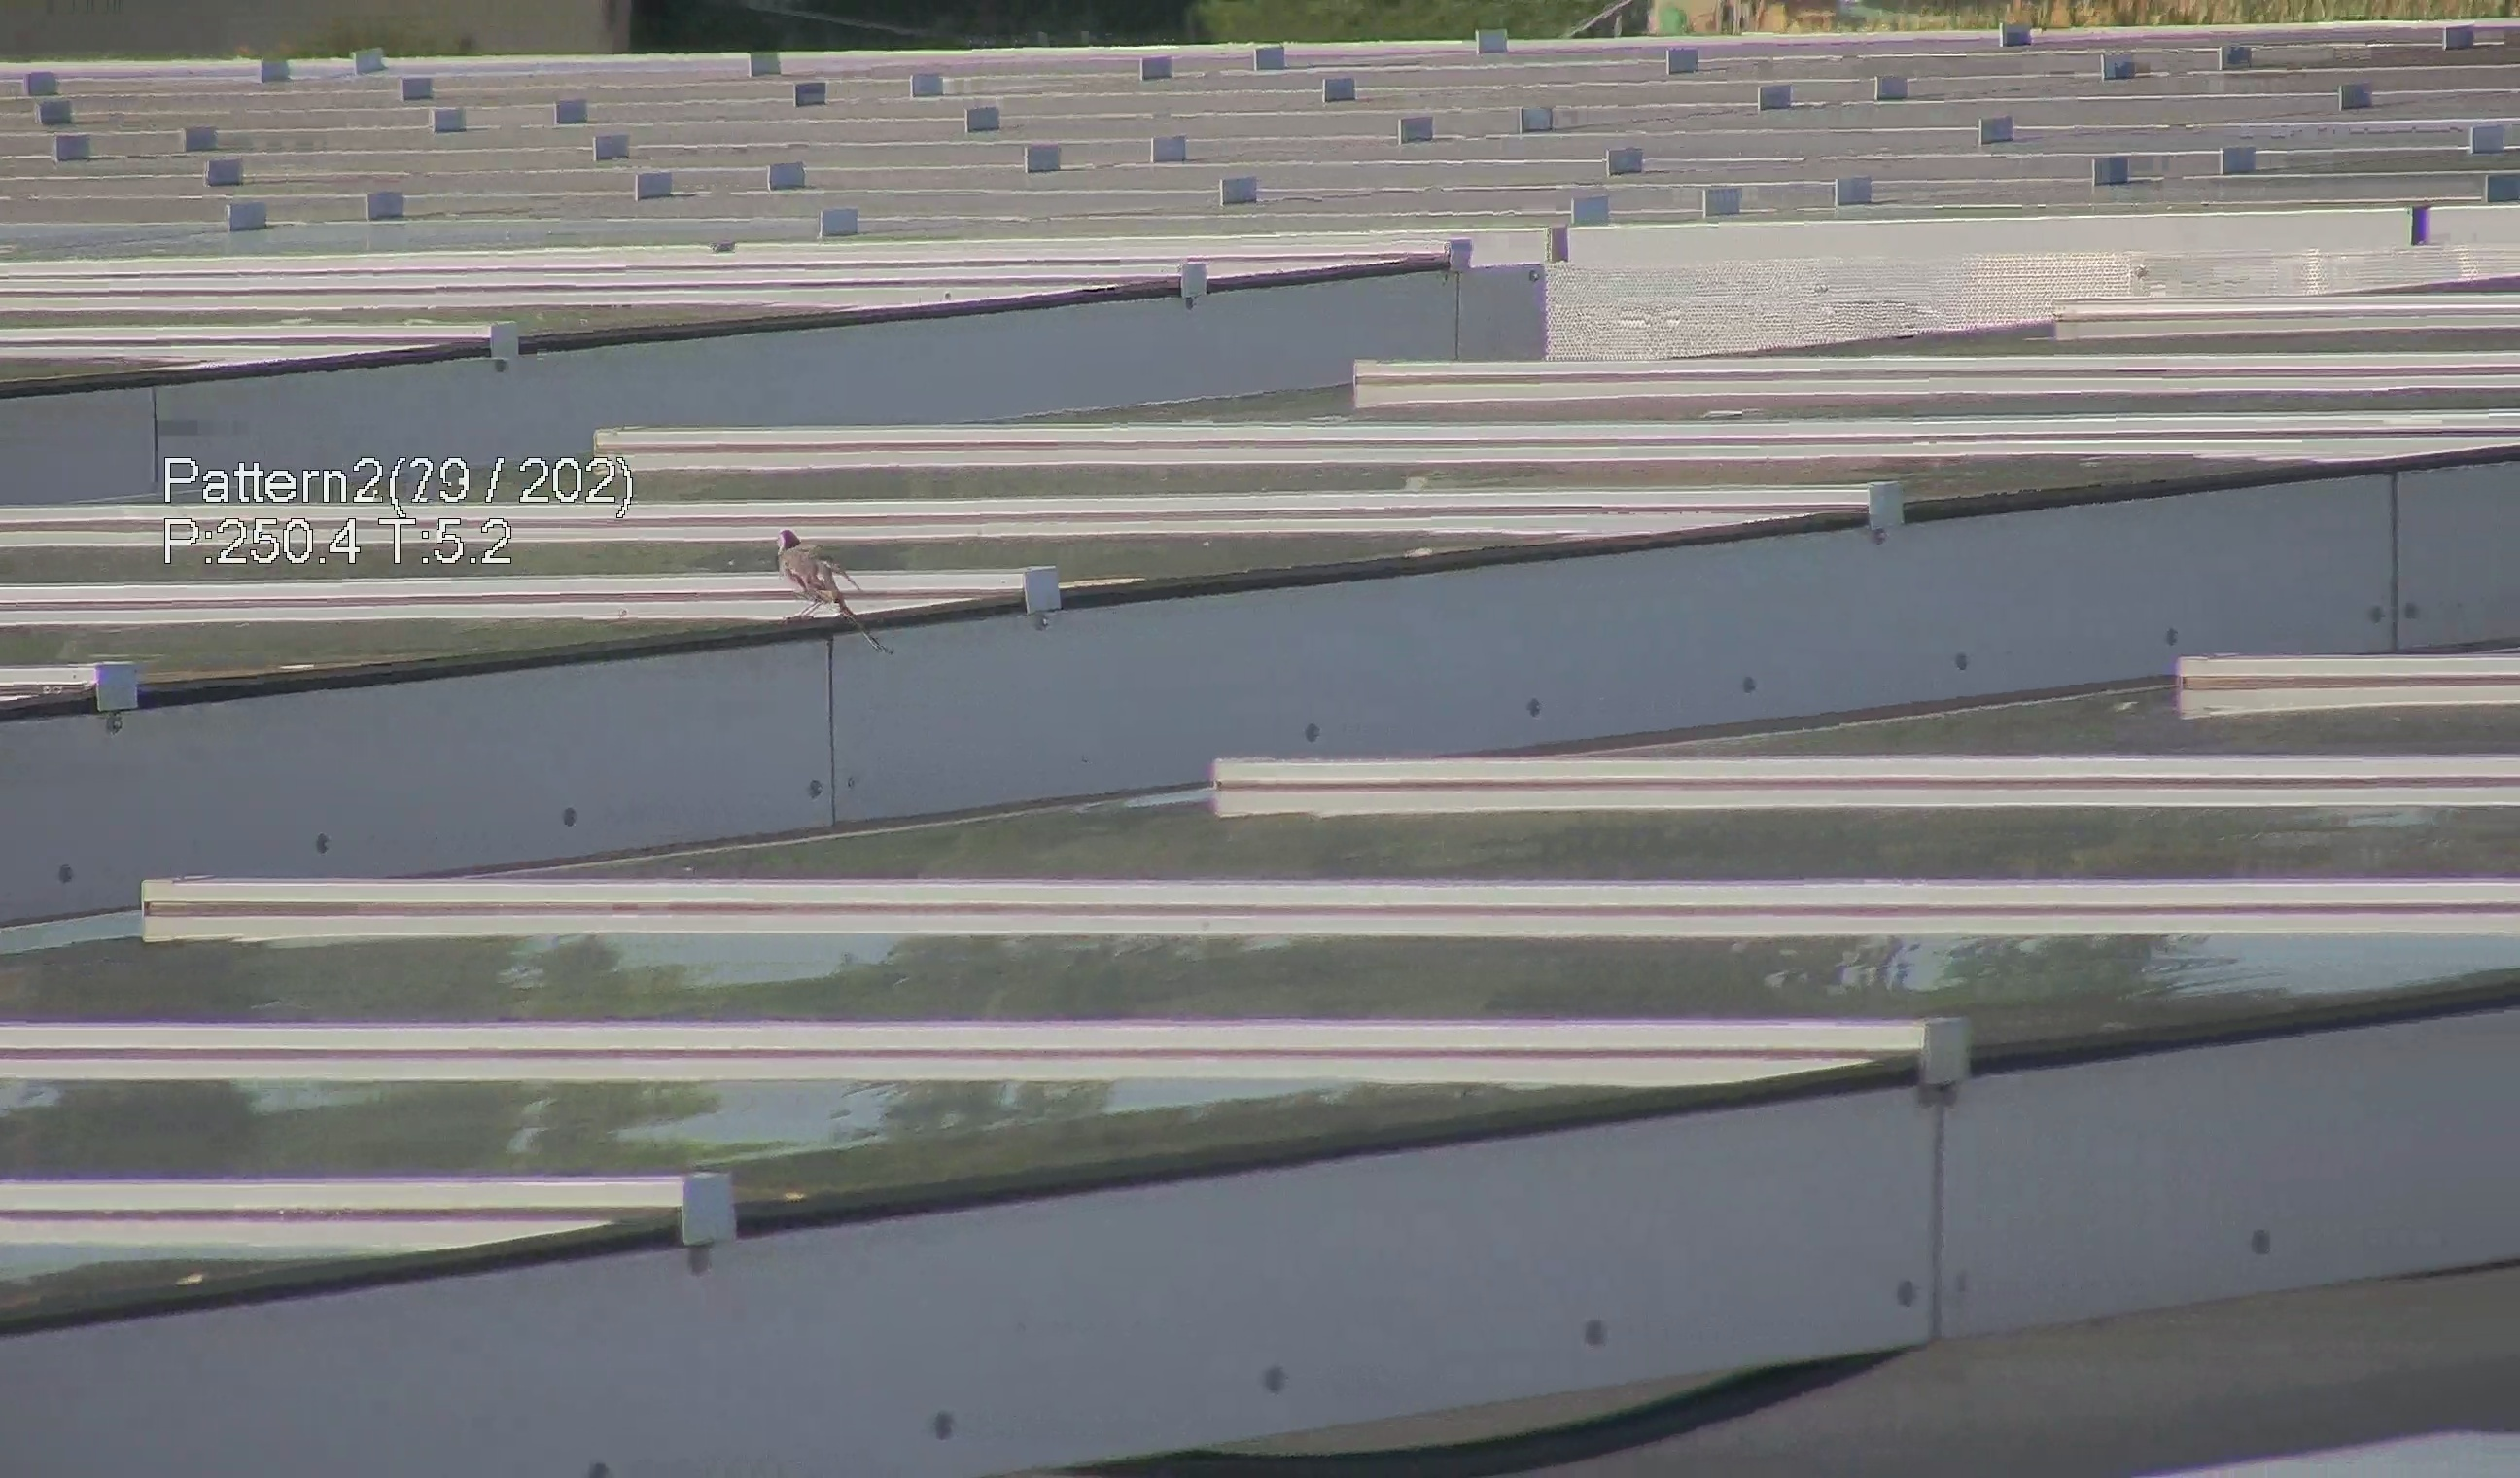Pigeon: (760, 521, 876, 621)
